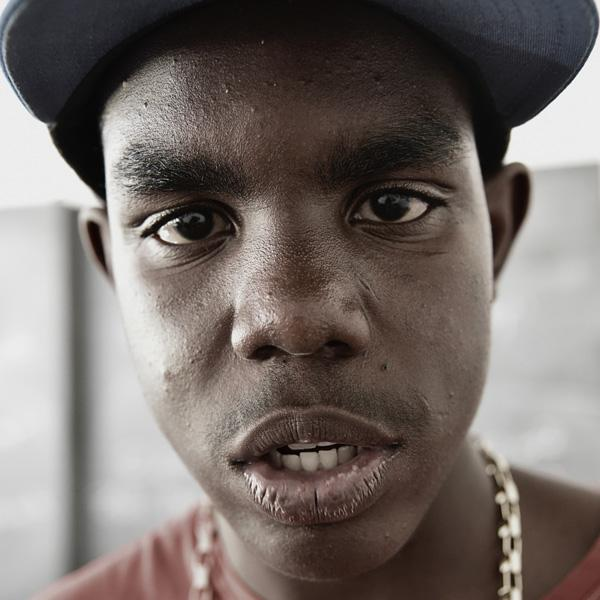Eyes: (124, 191, 249, 263), (337, 172, 454, 239)
